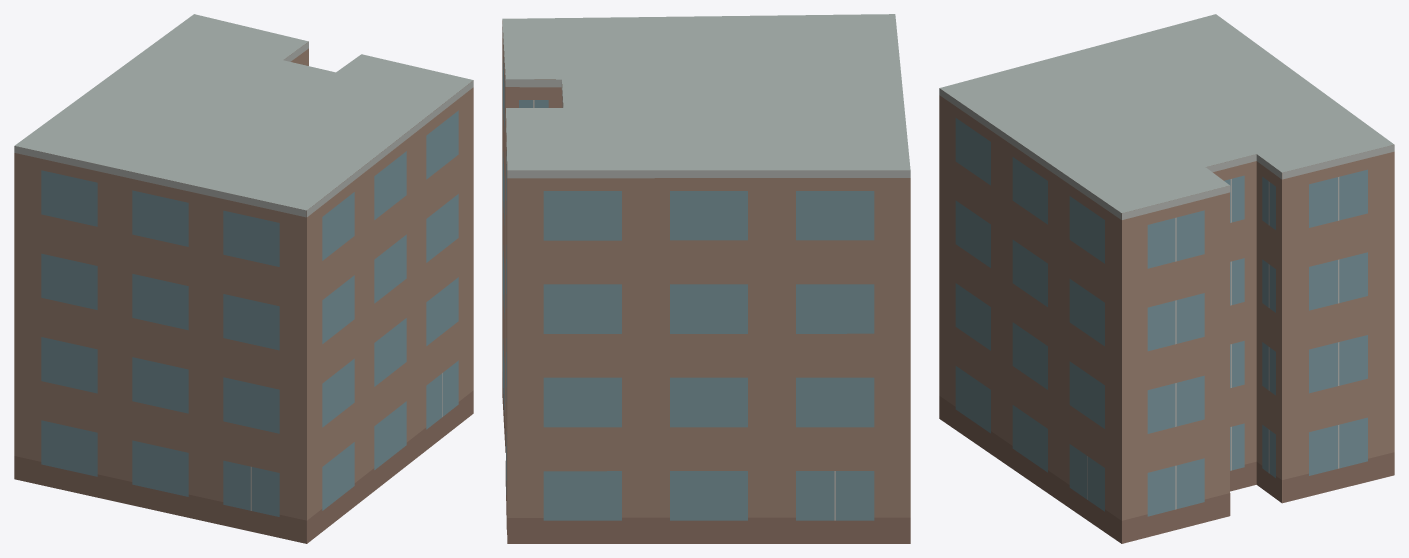
Rendered from survey-upis-32875456.glb.
3 views of the same model, side by side, from view 1: azimuth 30°, elevation 25°; view 2: azimuth 150°, elevation 25°; view 3: azimuth 270°, elevation 25° (orthographic). The views are drawn at different scales.
Visible parts, largest first — view 1: survey-upis-32875456.tmp; view 2: survey-upis-32875456.tmp; view 3: survey-upis-32875456.tmp.
Boxes of the visible parts, left/top/right/bottom form: survey-upis-32875456.tmp: left=14, top=14, right=473, bottom=543; survey-upis-32875456.tmp: left=502, top=14, right=910, bottom=543; survey-upis-32875456.tmp: left=939, top=14, right=1394, bottom=543.
Size of the model in its own units: 15 by 11.6 by 14.49.
